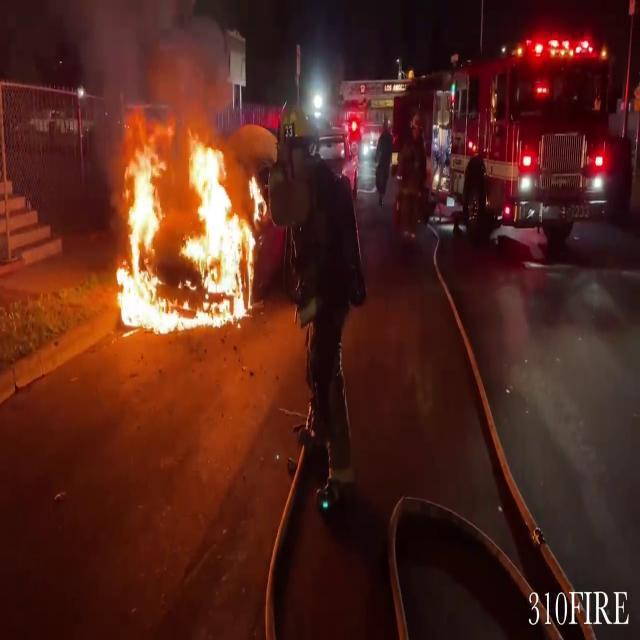Fire: (106, 94, 262, 338)
Smoke: (68, 0, 230, 148)
